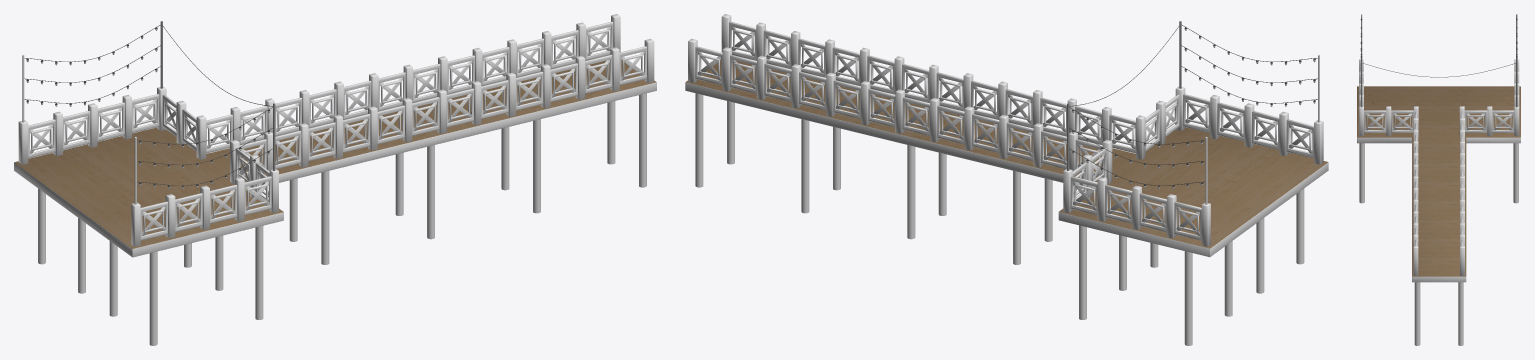
The model's file is dock.fbx.
3 renders of one model, left to right at view 1: azimuth 30°, elevation 25°; view 2: azimuth 150°, elevation 25°; view 3: azimuth 270°, elevation 25°, orthographic. The views are drawn at different scales.
Parts seen in each view (by area): view 1: Cube.004, Cube, Cylinder, NurbsPath, Cylinder.003; view 2: Cube.004, Cube, Cylinder, NurbsPath, Cylinder.003; view 3: Cube, Cube.004, Cylinder, Cylinder.001, NurbsPath.001.
Part boxes in pixels (x1=…): Cube.004: x1=18, y1=14, x2=654, y2=246; Cube: x1=14, y1=60, x2=656, y2=257; Cylinder: x1=38, y1=93, x2=646, y2=345; NurbsPath: x1=24, y1=24, x2=273, y2=185; Cylinder.003: x1=26, y1=27, x2=270, y2=188; Cube.004: x1=688, y1=14, x2=1323, y2=246; Cube: x1=685, y1=60, x2=1328, y2=257; Cylinder: x1=695, y1=93, x2=1304, y2=345; NurbsPath: x1=1069, y1=24, x2=1317, y2=185; Cylinder.003: x1=1072, y1=27, x2=1315, y2=189; Cube: x1=1357, y1=86, x2=1520, y2=282; Cube.004: x1=1359, y1=59, x2=1519, y2=275; Cylinder: x1=1359, y1=143, x2=1518, y2=345; Cylinder.001: x1=1361, y1=60, x2=1517, y2=107; NurbsPath.001: x1=1362, y1=63, x2=1515, y2=77.
Size of the model in its own units: 2735 by 980 by 996.
